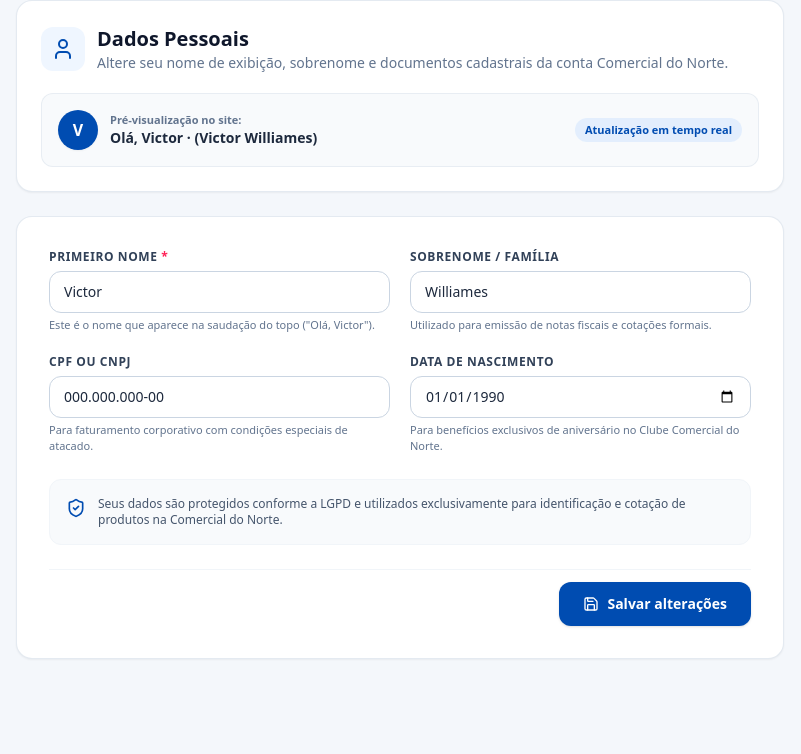
Test case: DadosPessoaisPage › updates the name when the user edits and clicks save
Step 1. Replace the text in the field labelled "Primeiro Nome *" with "Carlos" → (220, 292), box [49,271,390,313]
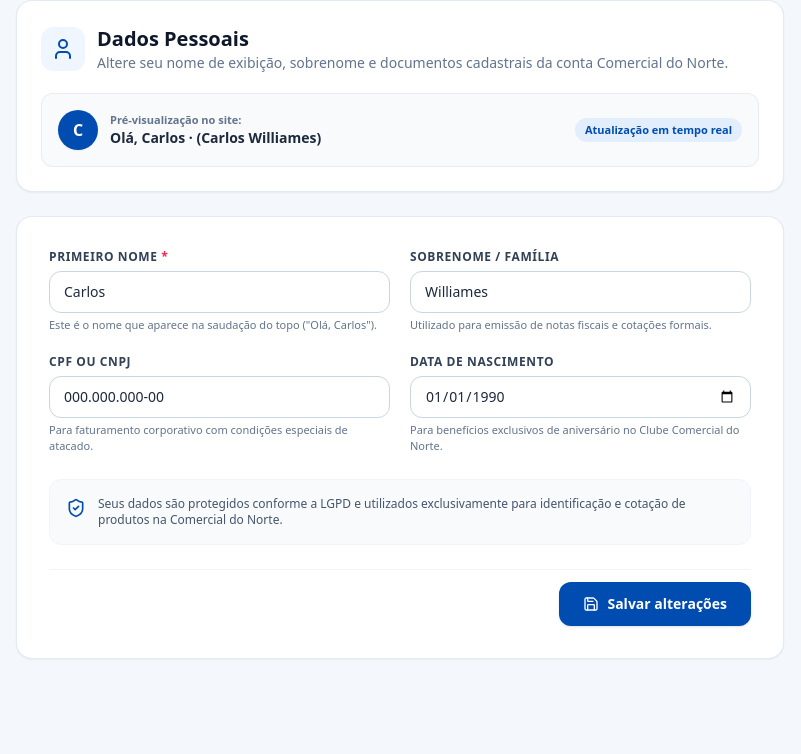
Step 2. Click the button "Salvar alterações" → (655, 604), box [559,582,751,626]
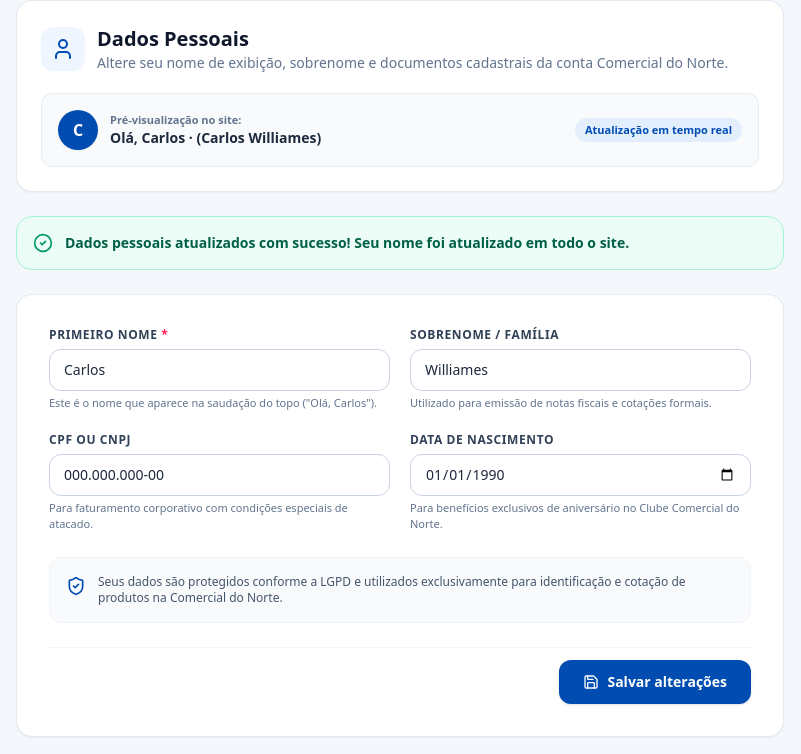
Result: the text "Dados pessoais atualizados com sucesso" is shown at [65,233,629,252]
